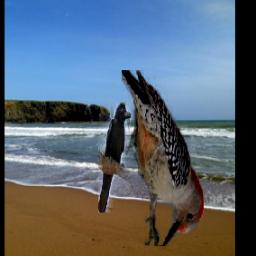Crow: (98, 104, 131, 214)
Woodpecker: (123, 70, 205, 246)
